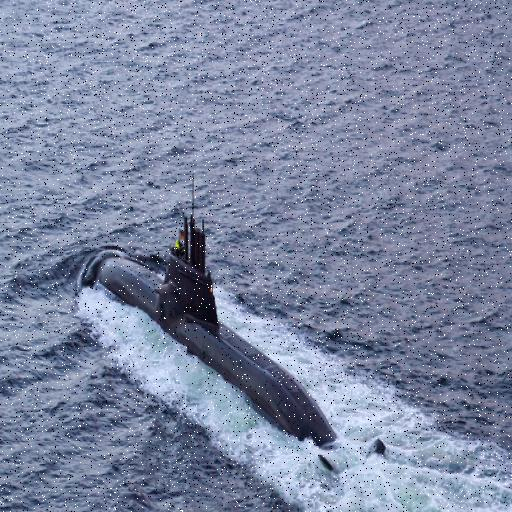submarine: (71, 196, 400, 469)
